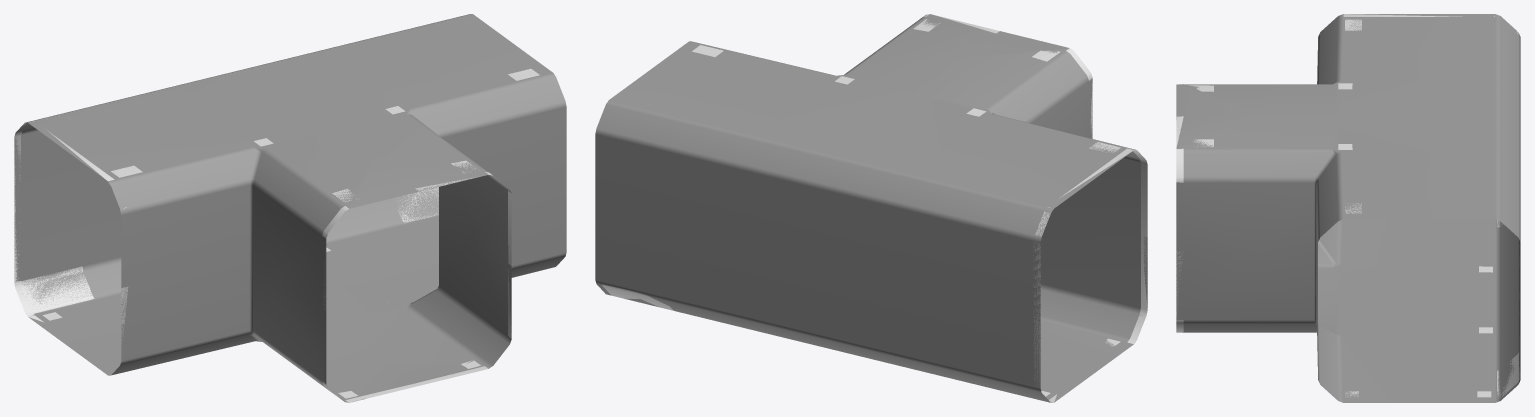
Rendered from VentSplit.fbx.
3 views of the same model, side by side, from view 1: azimuth 30°, elevation 25°; view 2: azimuth 150°, elevation 25°; view 3: azimuth 270°, elevation 25° (orthographic). The views are drawn at different scales.
Visible parts, largest first — view 1: Cube.082, StylizedHardSurface_Decals_056.067_projected, StylizedHardSurface_Panels_002.080, StylizedHardSurface_Panels_002.081; view 2: Cube.082, StylizedHardSurface_Panels_002.081, StylizedHardSurface_Decals_056.067_projected; view 3: Cube.082, StylizedHardSurface_Panels_002.080, StylizedHardSurface_Decals_056.067_projected, StylizedHardSurface_Decals_023.024_projected, StylizedHardSurface_Decals_021.001_projected.
Boxes of the visible parts, left/top/right/bottom form: Cube.082: left=14, top=14, right=566, bottom=402; StylizedHardSurface_Decals_056.067_projected: left=21, top=187, right=438, bottom=313; StylizedHardSurface_Panels_002.080: left=322, top=172, right=511, bottom=402; StylizedHardSurface_Panels_002.081: left=14, top=121, right=128, bottom=375; Cube.082: left=595, top=14, right=1147, bottom=402; StylizedHardSurface_Panels_002.081: left=1033, top=148, right=1147, bottom=402; StylizedHardSurface_Decals_056.067_projected: left=602, top=284, right=673, bottom=310; Cube.082: left=1176, top=14, right=1520, bottom=402; StylizedHardSurface_Panels_002.080: left=1176, top=84, right=1183, bottom=332; StylizedHardSurface_Decals_056.067_projected: left=1497, top=220, right=1520, bottom=397; StylizedHardSurface_Decals_023.024_projected: left=1338, top=83, right=1492, bottom=333; StylizedHardSurface_Decals_021.001_projected: left=1345, top=19, right=1361, bottom=213.
Bounding box in the file's own units: 300 × 130 × 213.
